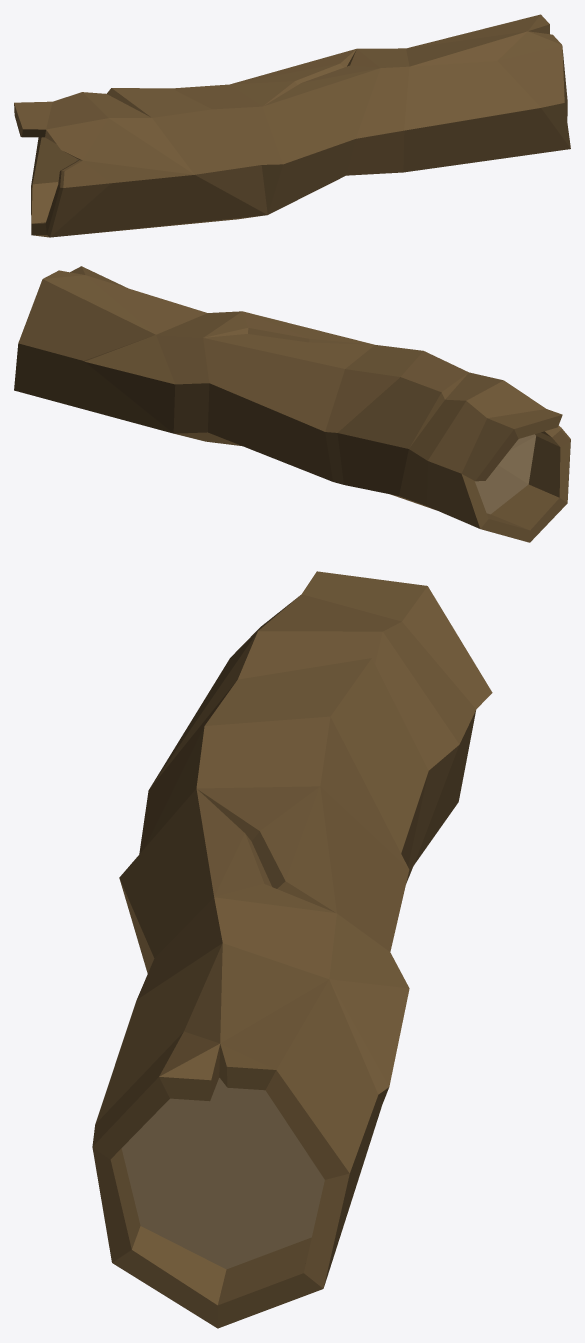
Rendered from model_polytope_log_tree.fbx.
3 views of the same model, one above another, from view 1: azimuth 30°, elevation 25°; view 2: azimuth 150°, elevation 25°; view 3: azimuth 270°, elevation 25° (orthographic). The views are drawn at different scales.
Visible parts, largest first — view 1: model_polytope_log_tree; view 2: model_polytope_log_tree; view 3: model_polytope_log_tree.
Boxes of the visible parts, <box> form: model_polytope_log_tree: <box>14,14,570,237</box>; model_polytope_log_tree: <box>14,266,570,542</box>; model_polytope_log_tree: <box>92,571,492,1328</box>.
Size of the model in its own units: 244 by 60.19 by 80.72.
